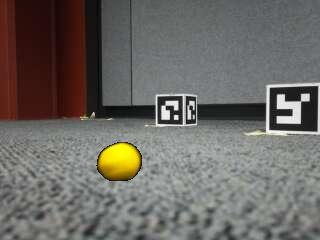lemon: (98, 143, 141, 180)
